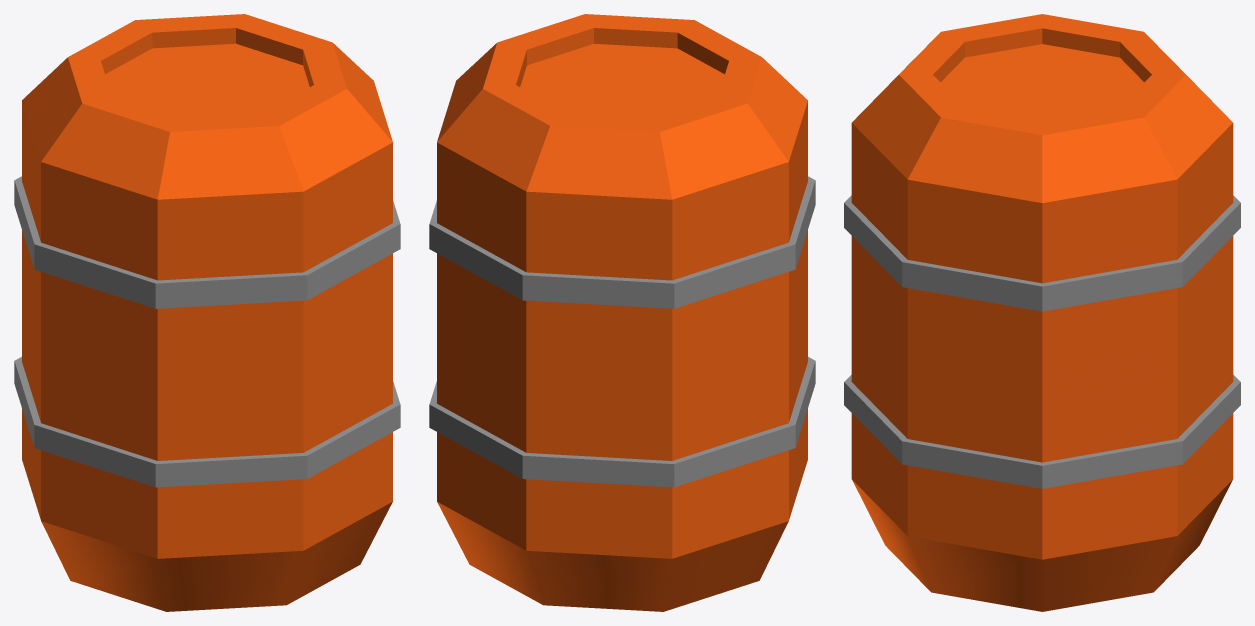
The model's file is BARRIL.FBX.
3 views of the same model, side by side, from view 1: azimuth 30°, elevation 25°; view 2: azimuth 150°, elevation 25°; view 3: azimuth 270°, elevation 25° (orthographic).
Parts seen in each view (by area): view 1: BARRIL; view 2: BARRIL; view 3: BARRIL.
Boxes of the visible parts, bbox=[...] form: BARRIL: bbox=[14, 14, 400, 611]; BARRIL: bbox=[429, 14, 815, 611]; BARRIL: bbox=[844, 14, 1240, 611].
Size of the model in its own units: 45.7 by 59.85 by 45.7.
